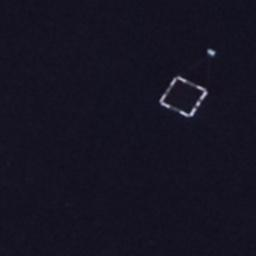square_solid: (157, 74, 209, 121)
